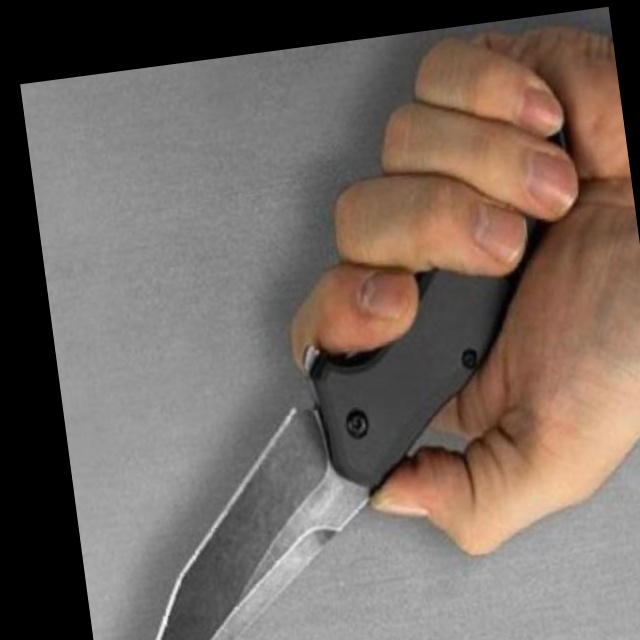Sharp-Object: (67, 125, 635, 640)
